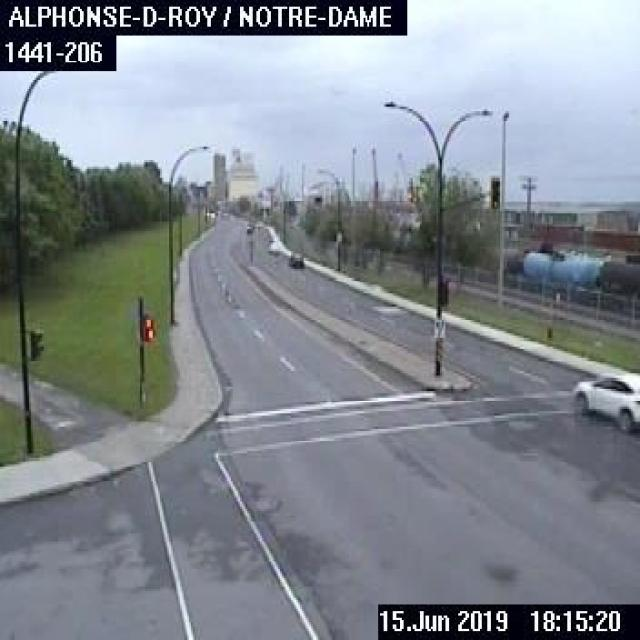vehicle: (570, 365, 638, 431), (286, 249, 304, 267), (264, 238, 276, 253)
